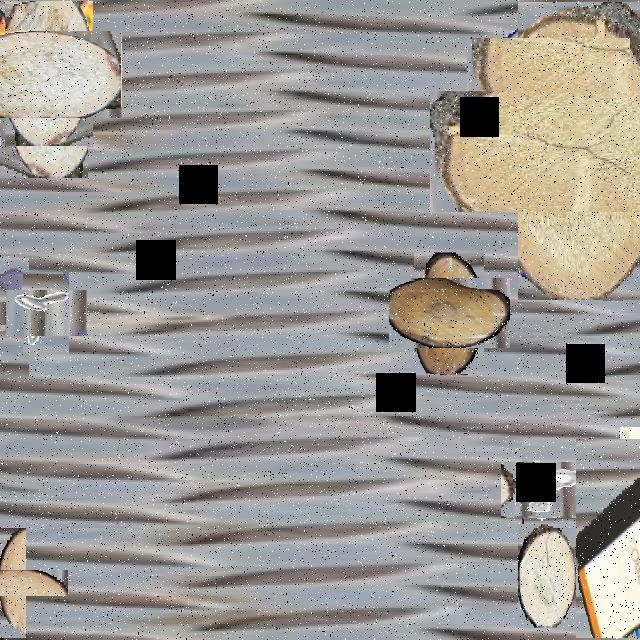glass: (485, 20, 613, 147), (0, 279, 52, 354), (598, 448, 640, 511)
metal: (511, 452, 589, 529), (575, 166, 633, 268), (14, 281, 78, 345)
plastic: (0, 2, 88, 180), (576, 439, 640, 638)
wood: (474, 45, 640, 256), (0, 16, 107, 133), (401, 265, 497, 361), (518, 524, 576, 628), (0, 549, 47, 617)
